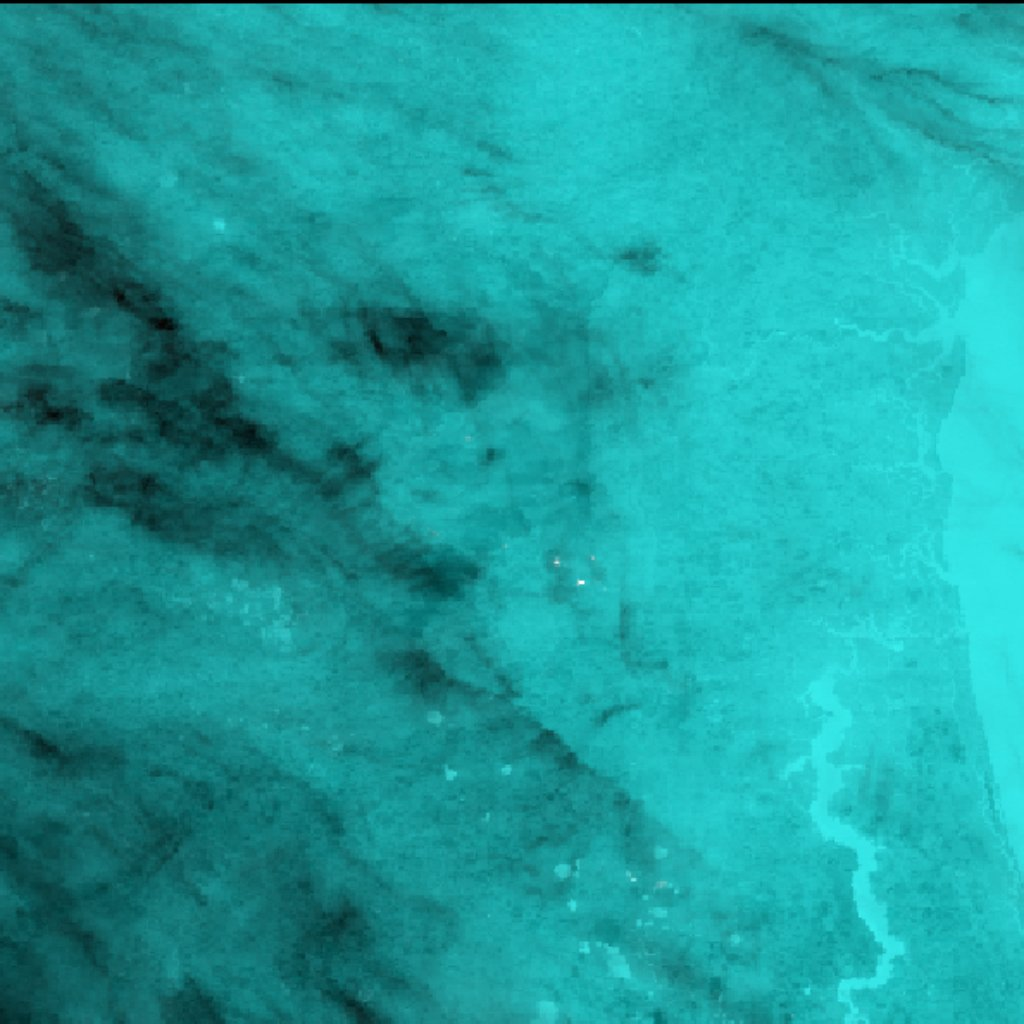fire: (0, 4, 1024, 1024)
